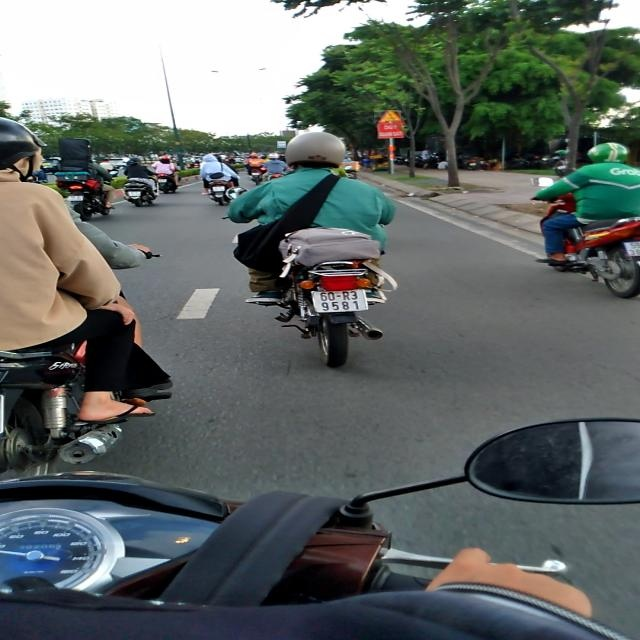bien_cam: (374, 110, 401, 123), (277, 141, 286, 148)
